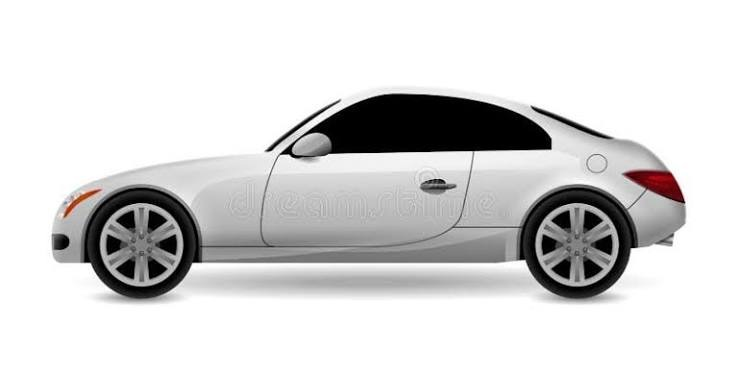car: (47, 93, 691, 302)
